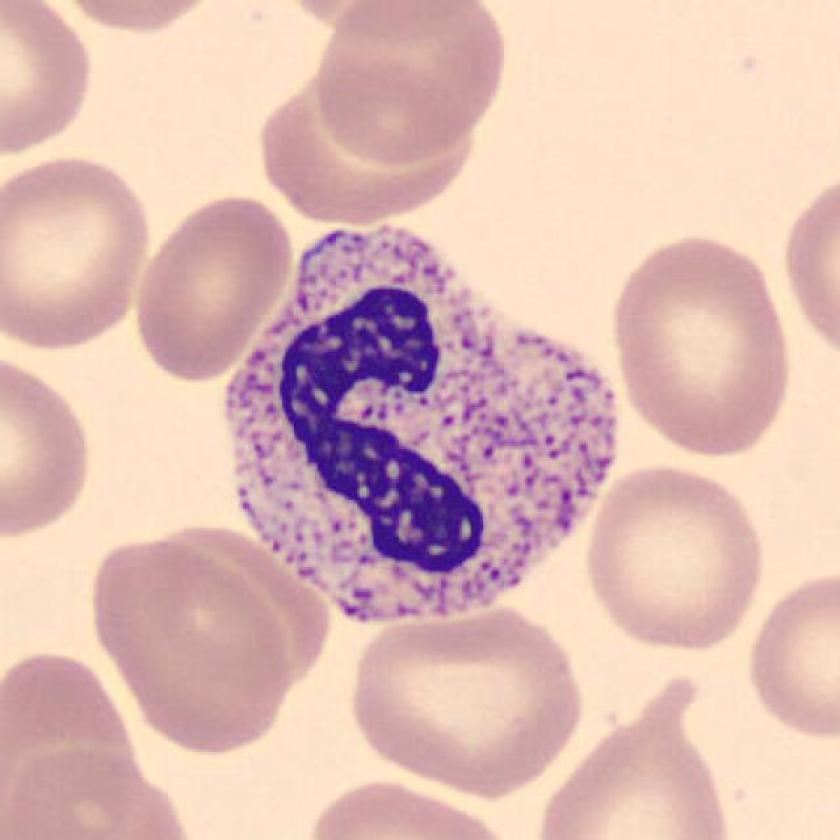neutrophil: (228, 231, 621, 622)
